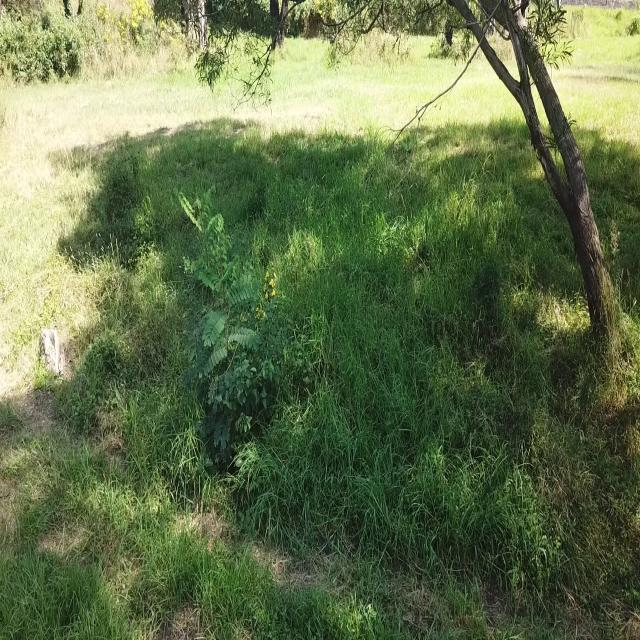Mysore-Thorn-Weed: (168, 190, 262, 451)
